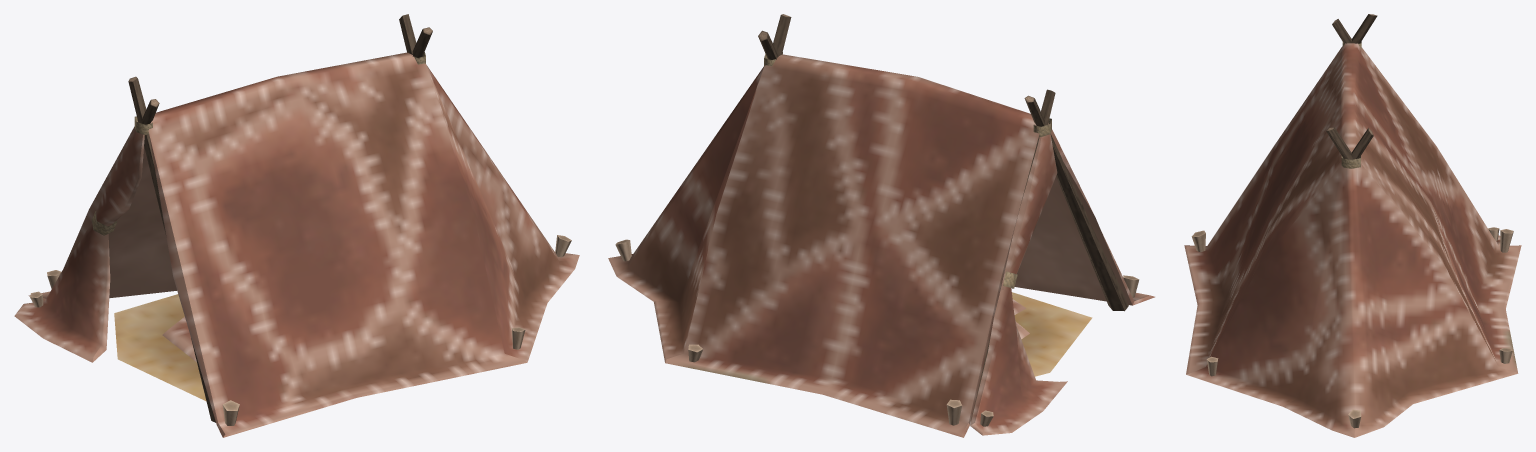
File: sm_tent.fbx
The picture shows the model from 3 angles, left to right: view 1: azimuth 30°, elevation 25°; view 2: azimuth 150°, elevation 25°; view 3: azimuth 270°, elevation 25°; orthographic projection. The views are drawn at different scales.
Visible parts, largest first — view 1: sm_tent; view 2: sm_tent; view 3: sm_tent.
Boxes of the visible parts, <box> form: sm_tent: <box>14,14,579,437</box>; sm_tent: <box>608,14,1154,437</box>; sm_tent: <box>1184,14,1521,437</box>.
Size of the model in its own units: 16.81 by 9.15 by 11.6.
